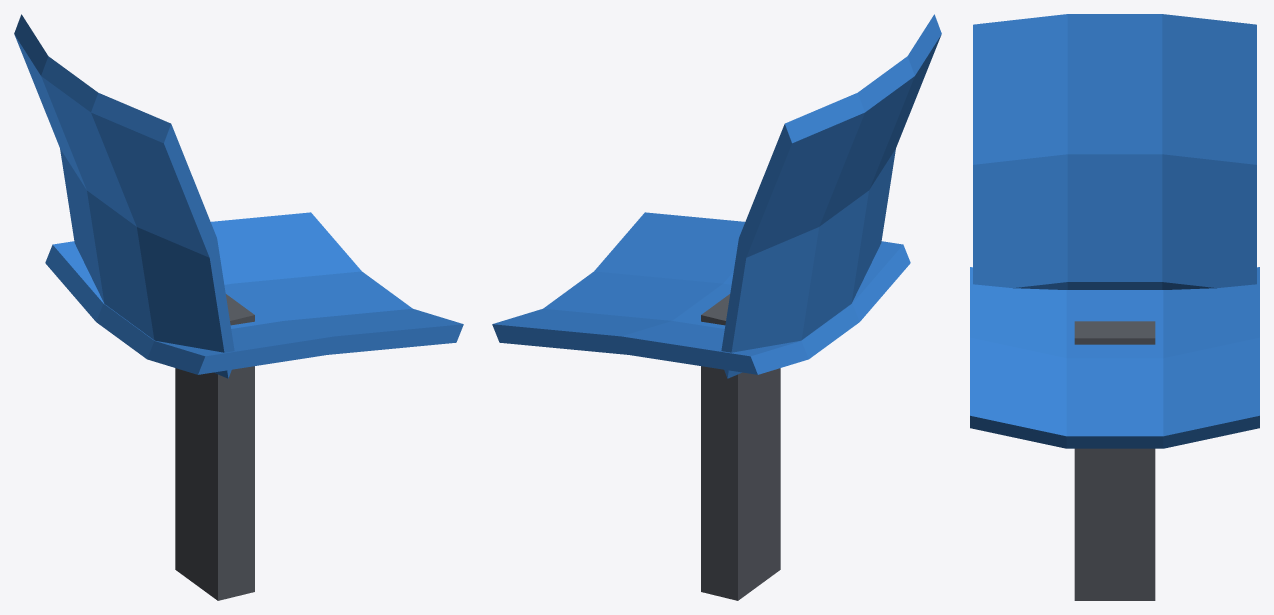
The model's file is seat_lod2.glb.
The picture shows the model from 3 angles, left to right: view 1: azimuth 30°, elevation 25°; view 2: azimuth 150°, elevation 25°; view 3: azimuth 270°, elevation 25°; orthographic projection. The views are drawn at different scales.
Visible parts, largest first — view 1: SEAT_MASTER_LOD2; view 2: SEAT_MASTER_LOD2; view 3: SEAT_MASTER_LOD2.
Boxes of the visible parts, <box> form: SEAT_MASTER_LOD2: <box>14,14,463,600</box>; SEAT_MASTER_LOD2: <box>492,14,941,600</box>; SEAT_MASTER_LOD2: <box>970,14,1259,600</box>.
Size of the model in its own units: 0.5223 by 0.84 by 0.43.
